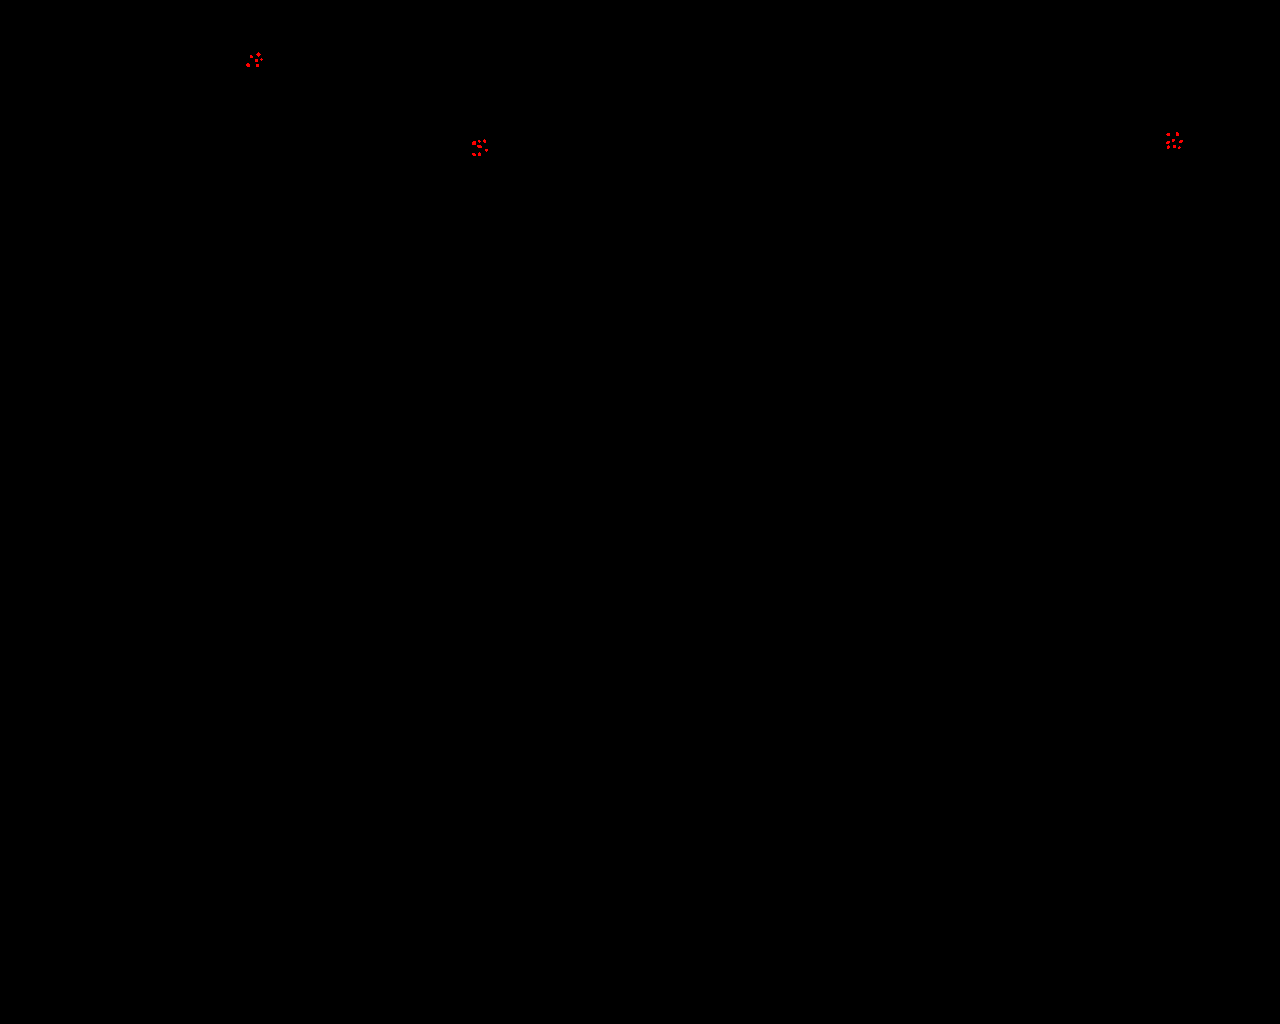Target: (256, 52, 261, 57), (246, 63, 250, 67), (472, 141, 476, 145), (1176, 132, 1179, 136), (1166, 133, 1170, 136), (483, 139, 486, 143), (1179, 140, 1183, 143), (1166, 141, 1170, 144), (478, 145, 482, 148), (1167, 145, 1170, 149), (478, 152, 481, 156), (472, 153, 476, 156), (250, 55, 253, 59), (255, 59, 258, 62), (256, 64, 259, 67), (1172, 139, 1176, 142), (478, 140, 481, 143), (1178, 146, 1181, 149), (260, 59, 263, 61), (1173, 145, 1176, 148), (485, 149, 488, 152)
